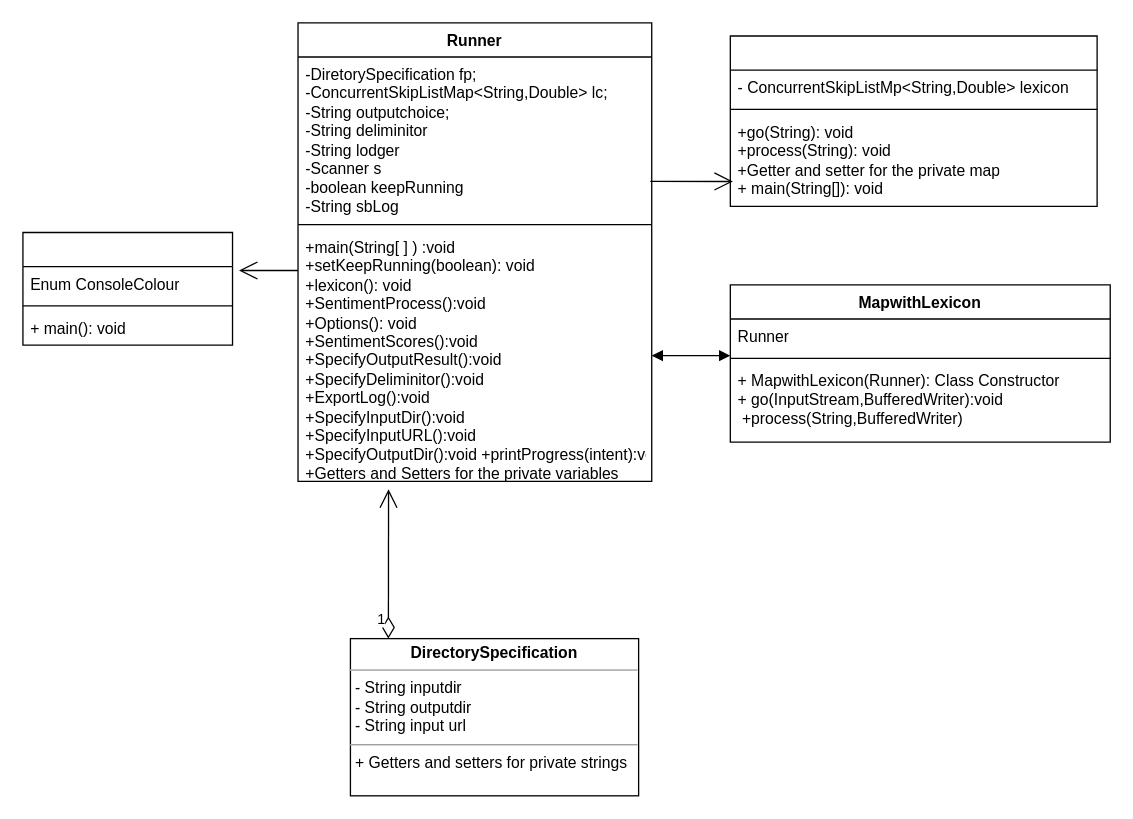
The diagram is 1133 pixels wide and 819 high, and some of its shapes have lost their labels. The box of each missing label's shape, as (x1, y1, x2, y2) in pixels:
LexiconConfig: (729, 35, 1097, 206)
Menu: (22, 231, 233, 345)
